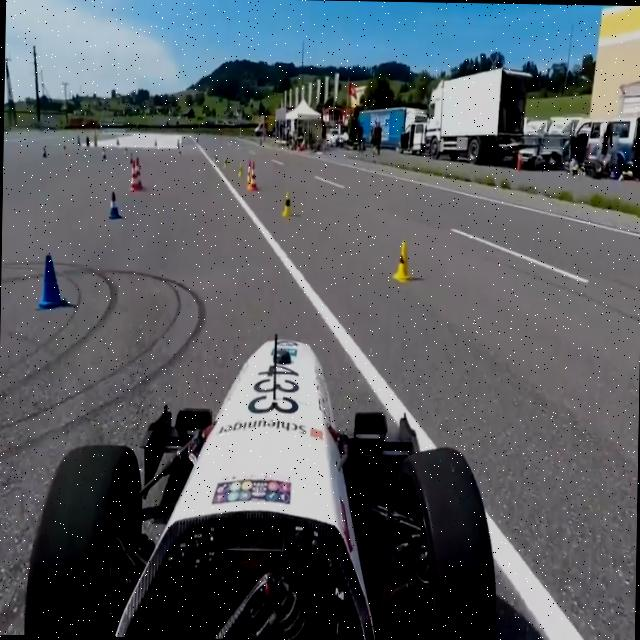blue_cone: (36, 254, 66, 311), (107, 190, 122, 220)
large_orange_cone: (129, 158, 140, 192), (132, 157, 142, 190), (249, 160, 258, 191)
yellow_cone: (392, 238, 413, 282), (282, 190, 292, 218)
